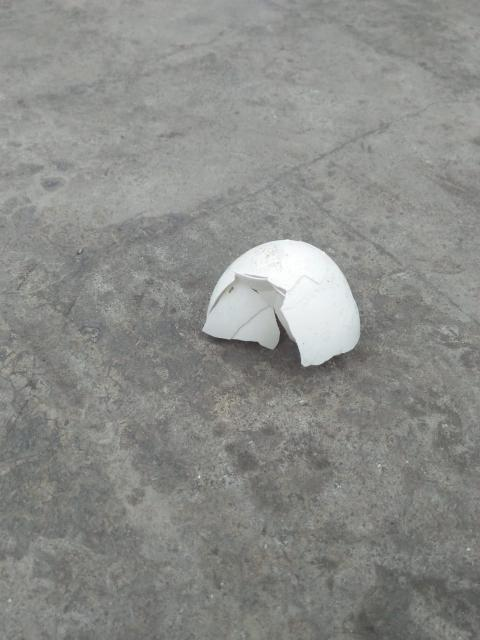Roto: (201, 238, 361, 368)
